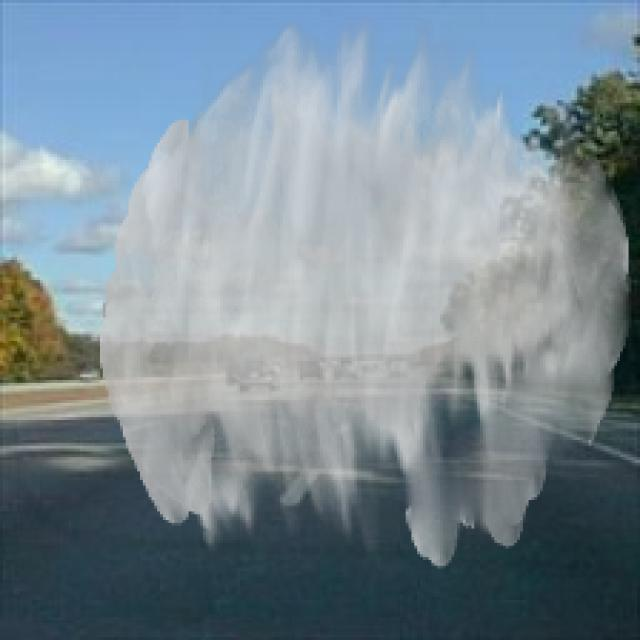smoke: (100, 17, 631, 569)
